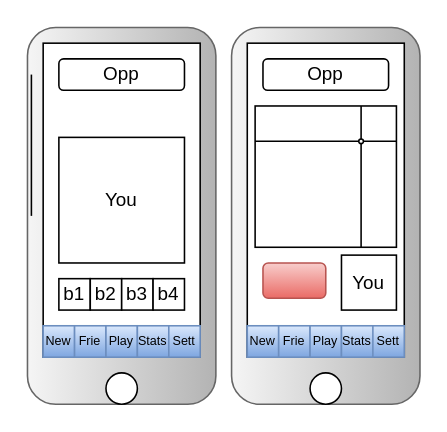
The diagram is 447 pixels wide and 432 high, and some of its shapes have lost their labels. Each missing label, with the centre of its shape:
"Fire" belongs at (293,279).
"Them" belongs at (325,175).
